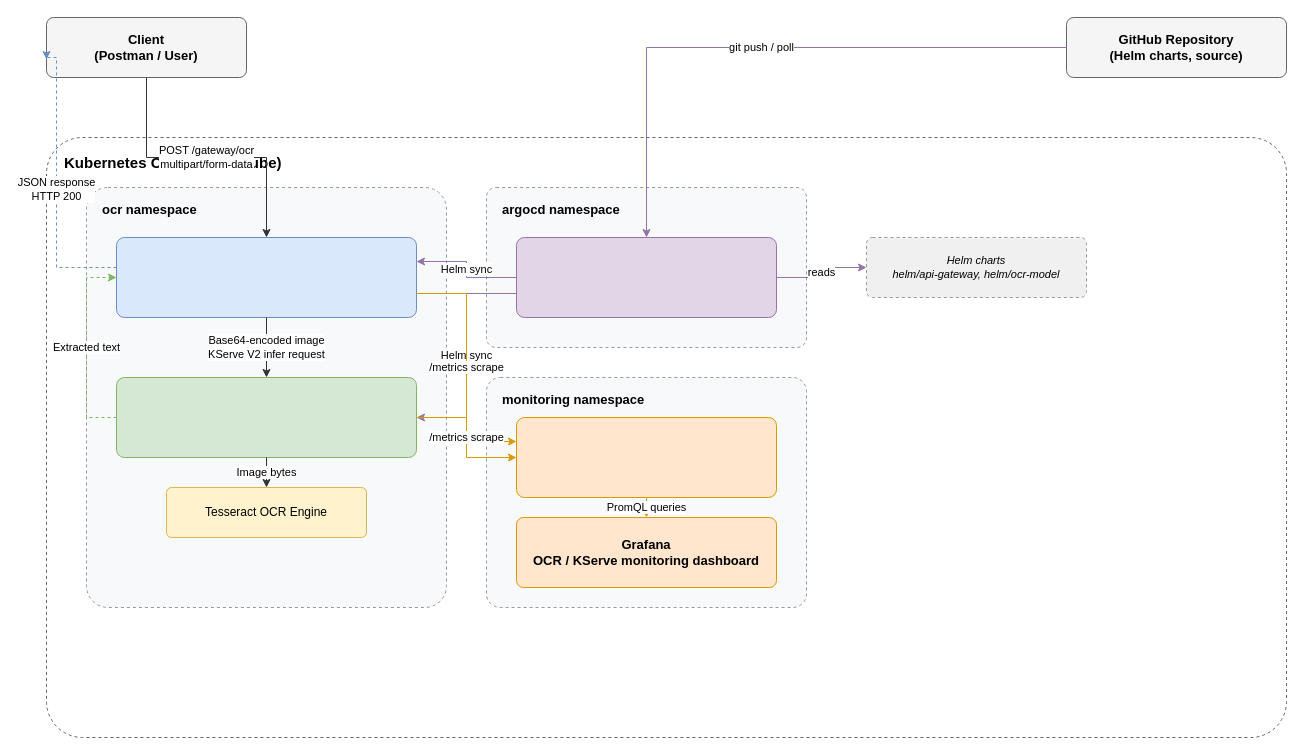
Some shapes in this 1304 by 755 pixel diagram are drawn without their labels. Each missing label, with the centre of its shape:
"API Gateway FastAPI • Deployment + Service NodePort, Port 8001" goes at point (266, 277).
"ArgoCD GitOps continuous deployment prune + selfHeal enabled" goes at point (646, 277).
"OCR Model KServe V2 Inference • Deployment + Service ClusterIP, Port 8080" goes at point (266, 417).
"Prometheus kube-prometheus-stack Scrapes /metrics via PodMonitor" goes at point (646, 457).
